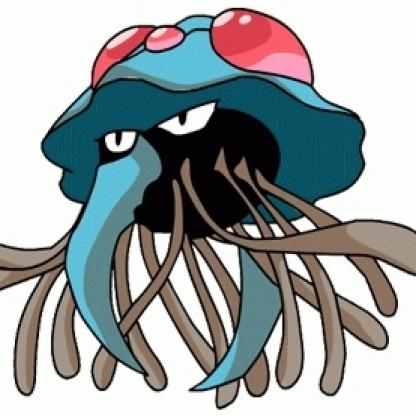Tentacruel: (1, 19, 416, 407)
